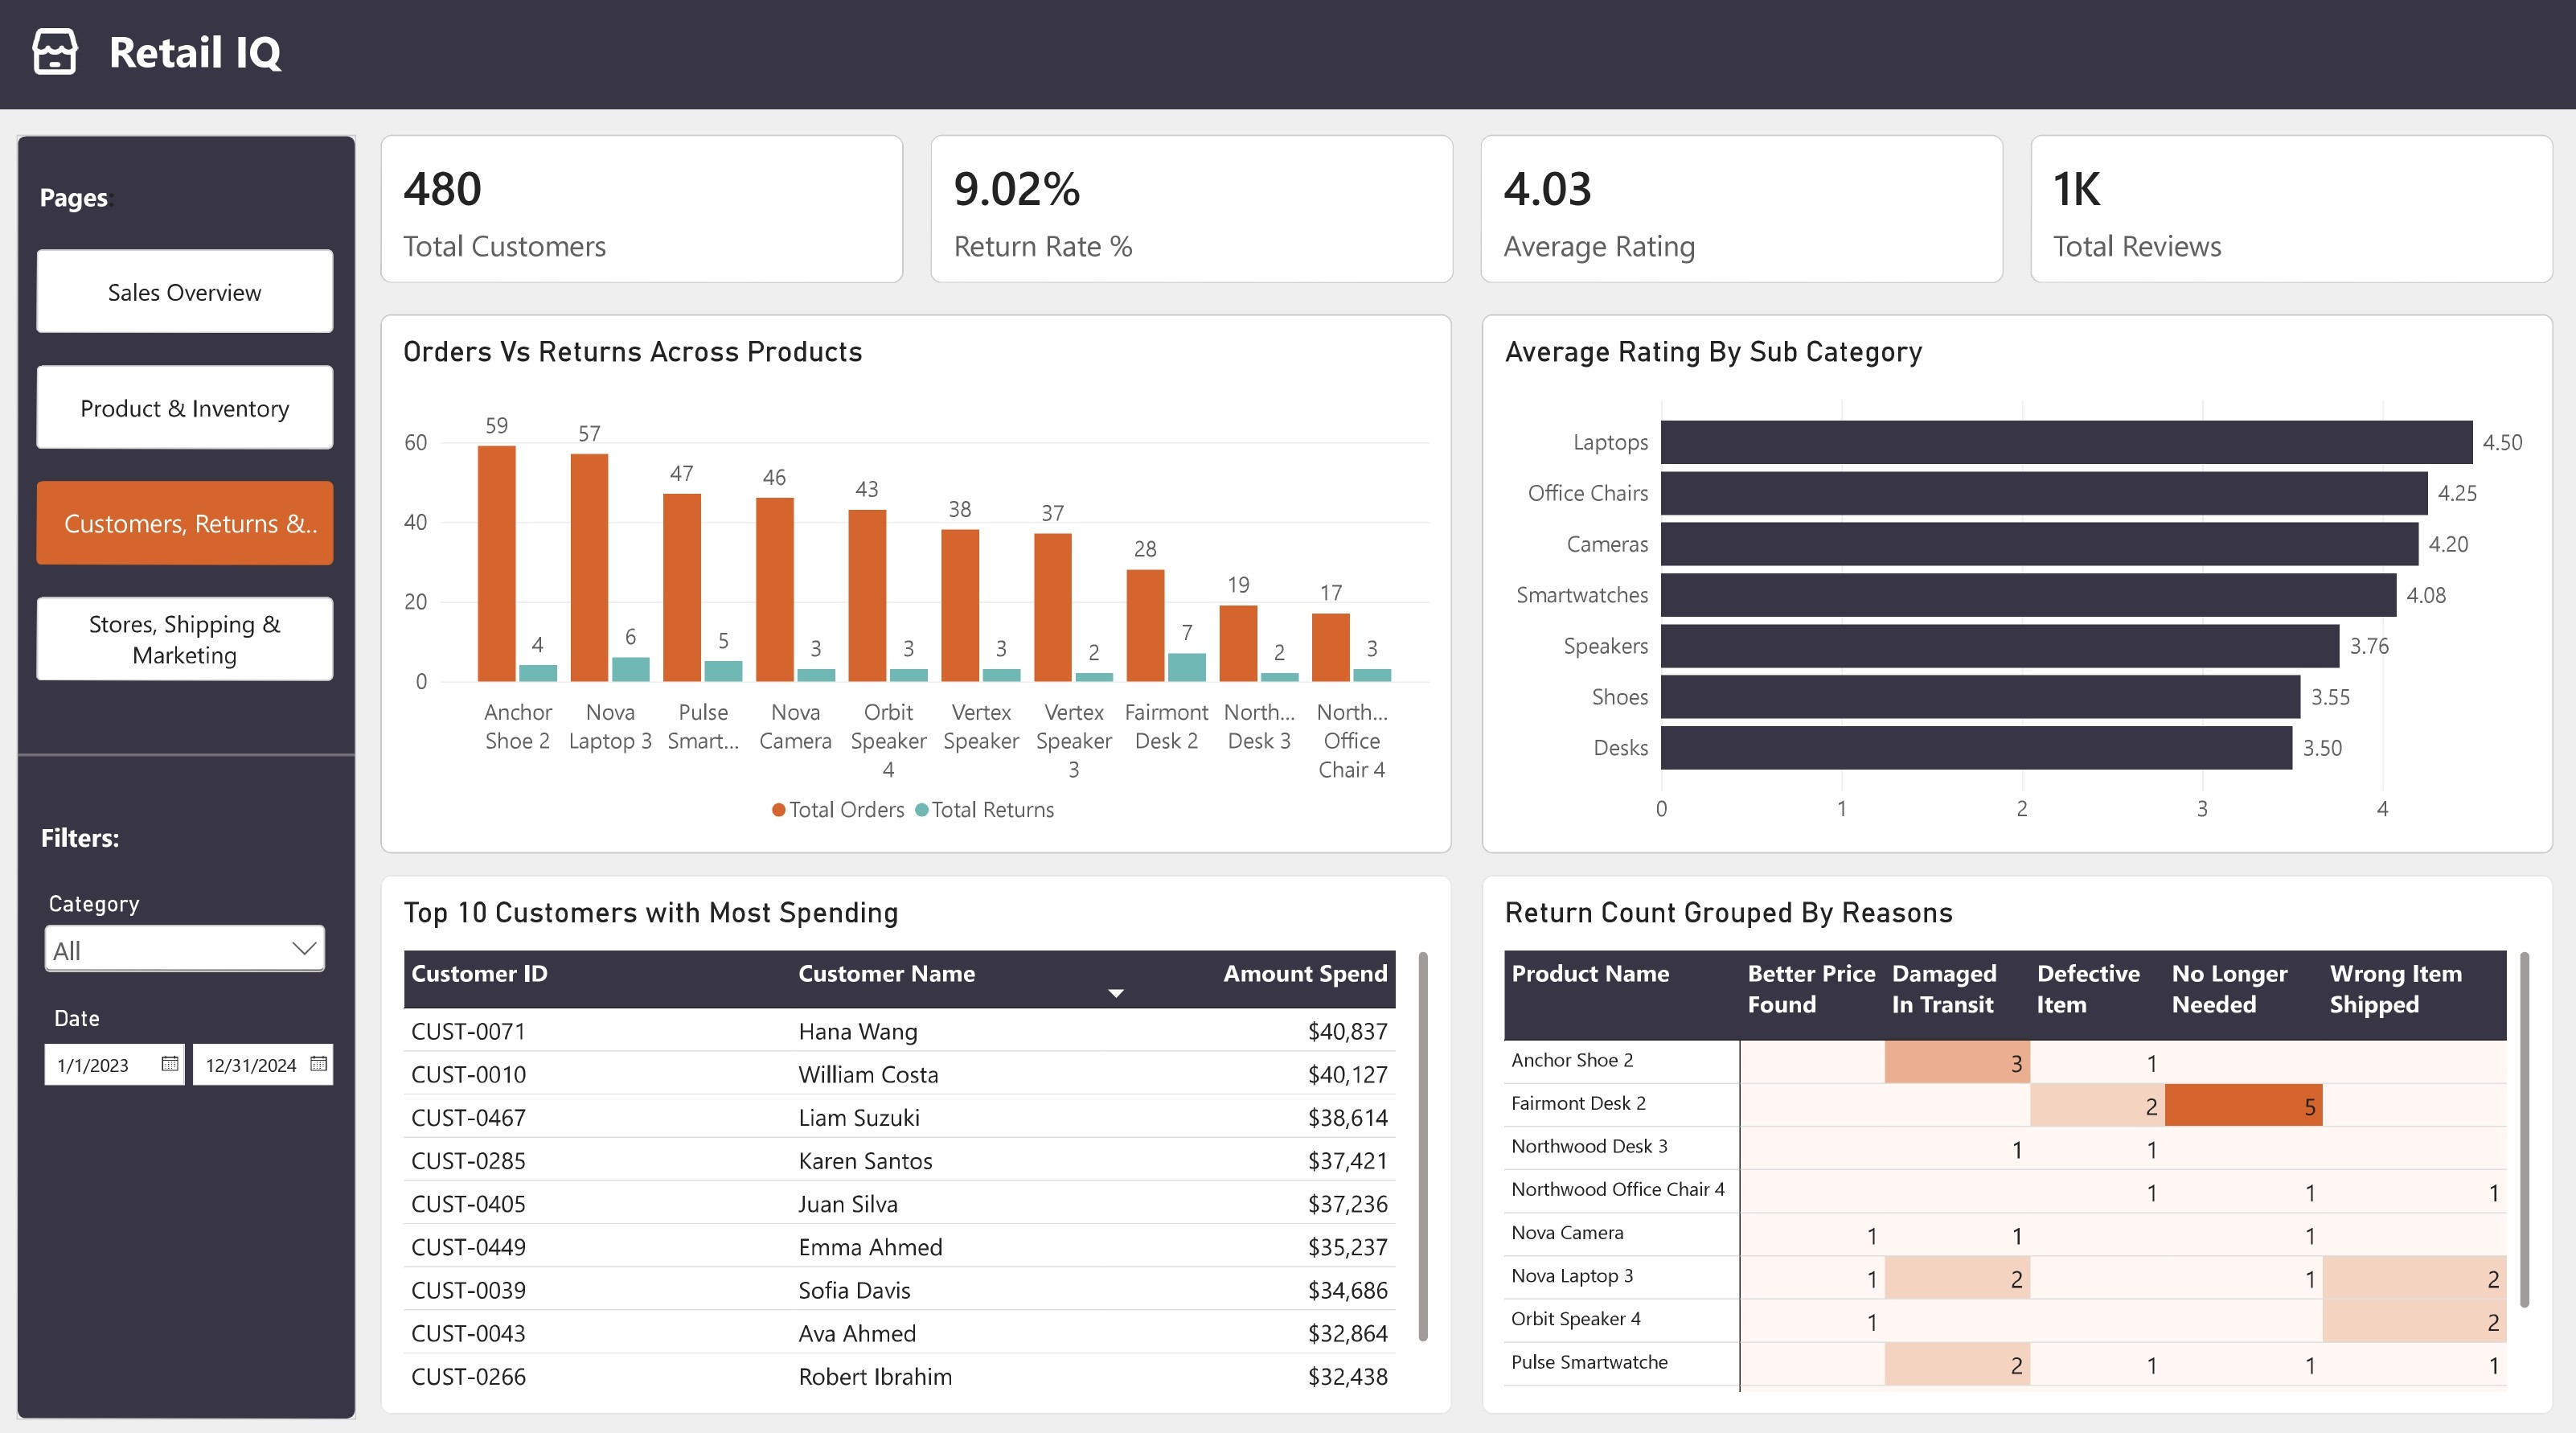

Layout of this report page (visuals, bound fields, positions):
{"tool":"powerbi","page":{"name":"Customers, Returns & Reviews","canvas":[1920,1080],"ordinal":2},"visuals":[{"type":"shape","box":[0,0,1920.7,85.9],"z":0},{"type":"clusteredColumnChart","title":"Orders Vs Returns Across Products","fields":{"Category":["Dim_Product.ProductName"],"Y":["_Measures.Total Orders","_Measures.Total Returns"]},"box":[287.5,238.1,795,400],"z":1000},{"type":"shape","box":[17.5,105,252.5,952.5],"z":2000},{"type":"pageNavigator","box":[32.5,190,220,322.5],"z":3000},{"type":"textbox","box":[36,613,122,35],"z":5000},{"type":"slicer","fields":{"Values":["Dim_Product.Category"]},"box":[34,665,217.5,62.5],"z":6000},{"type":"textbox","box":[34.6,138.5,122.3,34.6],"z":7000},{"type":"shape","box":[17.7,540,252.3,50],"z":8000},{"type":"image","box":[23.1,26.2,46.9,33.8],"z":9000},{"type":"textbox","box":[86,20,478,62],"z":10000},{"type":"cardVisual","fields":{"Data":["_Measures.Total Customers","_Measures.Return Rate %","_Measures.Average Rating","_Measures.Total Reviews"]},"box":[287.5,105,1612.5,110],"z":11000},{"type":"pivotTable","title":"Return Count Grouped By Reasons","fields":{"Columns":["Fact_Returns.ReturnReason"],"Rows":["Dim_Product.ProductName"],"Values":["_Measures.Total Returns"]},"box":[1105,654.4,795,400],"z":12000},{"type":"barChart","title":"Average Rating By Sub Category","fields":{"Category":["Dim_Product.SubCategory"],"Y":["_Measures.Average Rating"]},"box":[1105,238.1,795,400],"z":13000},{"type":"tableEx","title":"Top 10 Customers with Most Spending","fields":{"Values":["Dim_Customer.CustomerID","Dim_Customer.CustomerName","_Measures.Total Revenue"]},"box":[287.5,654.4,795,400],"z":14000},{"type":"slicer","title":"Date","fields":{"Values":["Dim_Date.Date"]},"box":[30.9,773.5,236.7,95],"z":15000},{"type":"textbox","box":[45.9,750.2,85,23.3],"z":16000}]}

Visuals, with their boxes on the page's 1920x1080 design canvas (x1, y1, x2, y2). These are canvas units, not pixel positions in the 2576x1433 screenshot, which may show the page scaled, cropped or inside an application window:
shape: bbox=(0, 0, 1921, 86)
"Orders Vs Returns Across Products" clusteredColumnChart: bbox=(288, 238, 1082, 638)
shape: bbox=(18, 105, 270, 1058)
pageNavigator: bbox=(32, 190, 252, 512)
textbox: bbox=(36, 613, 158, 648)
slicer - Dim_Product.Category: bbox=(34, 665, 252, 728)
textbox: bbox=(35, 138, 157, 173)
shape: bbox=(18, 540, 270, 590)
image: bbox=(23, 26, 70, 60)
textbox: bbox=(86, 20, 564, 82)
cardVisual - _Measures.Total Customers x _Measures.Return Rate %: bbox=(288, 105, 1900, 215)
"Return Count Grouped By Reasons" pivotTable: bbox=(1105, 654, 1900, 1054)
"Average Rating By Sub Category" barChart: bbox=(1105, 238, 1900, 638)
"Top 10 Customers with Most Spending" tableEx: bbox=(288, 654, 1082, 1054)
"Date" slicer: bbox=(31, 774, 268, 868)
textbox: bbox=(46, 750, 131, 774)
